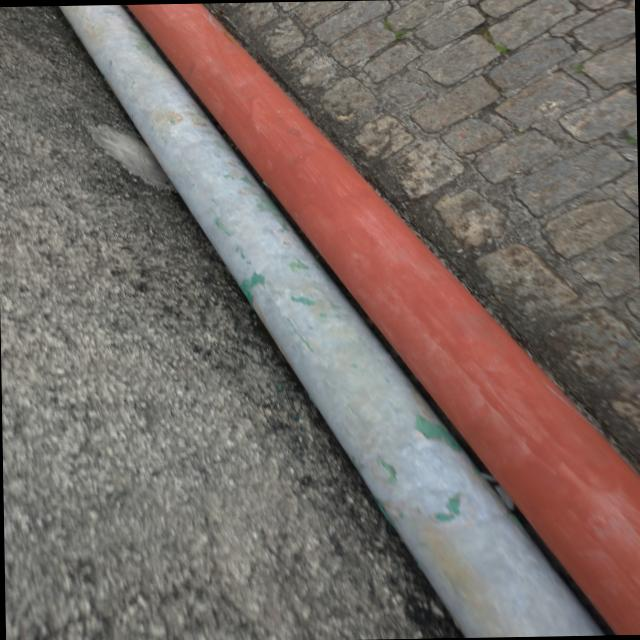gas: (58, 3, 605, 637), (123, 2, 640, 635)
